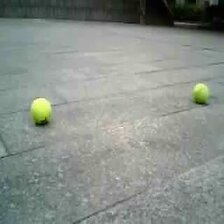tennis: (31, 98, 51, 123), (193, 83, 208, 102)
